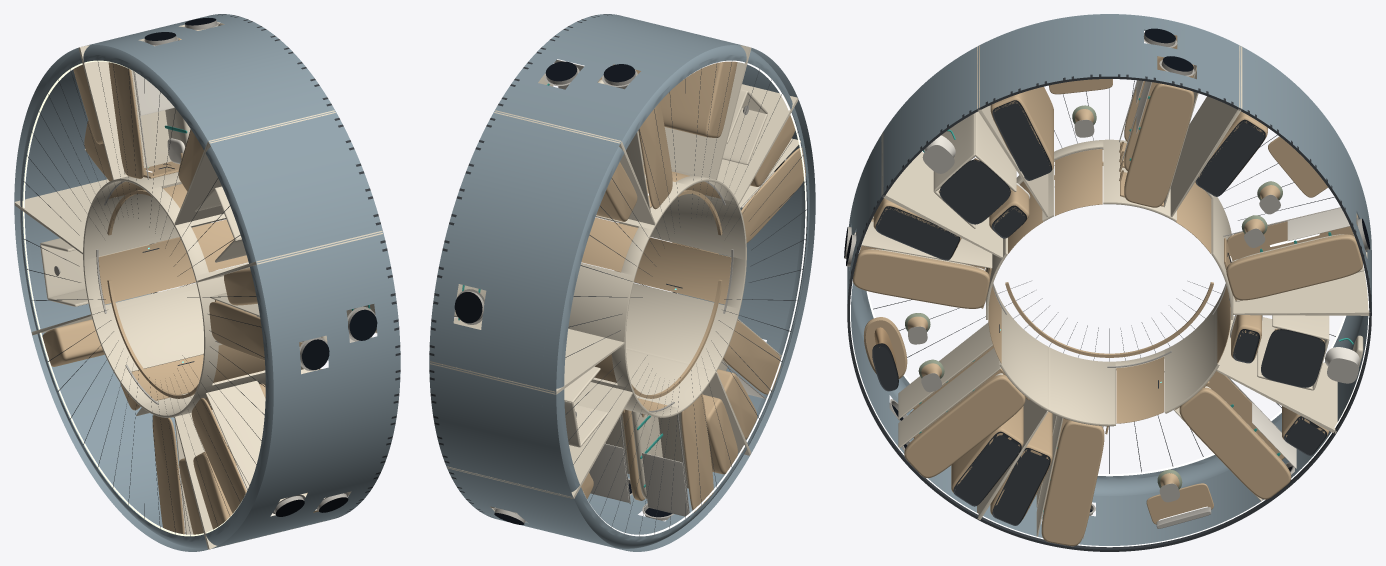
File: interior_L3.glb
3 renders of one model, left to right at view 1: azimuth 30°, elevation 25°; view 2: azimuth 150°, elevation 25°; view 3: azimuth 270°, elevation 25°, orthographic.
Parts seen in each view (by area): view 1: dry:L3_D3_lining, dry:L3_P0_CB, dry:L3_P0_CAPT, dry:L3_P0_HC, dry:L3_B_GUEST_221, dry:L3_B_CA_75, dry:L3_P0_GUEST, dry:L3_P0_HG, dry:L3_P0_CA, dry:L3_B_CB_259, dry:L3_B1_crewB_lockers, dry:L3_B_GUEST_169 (+11 smaller); view 2: dry:L3_D3_lining, dry:L3_P0_GUEST, dry:L3_B_CB_259, dry:L3_P0_CAPT, dry:L3_P0_CB, dry:L3_P0_CA, dry:L3_P0_HC, dry:L3_A1_crewA_lockers, dry:L3_P0_HG, dry:L3_B_CA_75, dry:L3_B_GUEST_169, dry:L3_B_GUEST_221 (+10 smaller); view 3: dry:L3_D3_lining, dry:L3_P0_CB, dry:L3_B_GUEST_221, dry:L3_P0_CA, dry:L3_B_CAPT_15, dry:L3_H1_guest_washroom, dry:L3_B_CB_311, dry:L3_B_GUEST_169, dry:L3_B_CA_75, dry:L3_H2_crew_washroom, dry:L3_P0_CAPT, dry:L3_G1_guest_lockers (+14 smaller).
Part boxes in pixels (x1=…): dry:L3_D3_lining: x1=14, y1=14, x2=400, y2=551; dry:L3_P0_CB: x1=34, y1=289, x2=333, y2=549; dry:L3_P0_CAPT: x1=14, y1=47, x2=210, y2=254; dry:L3_P0_HC: x1=21, y1=210, x2=215, y2=335; dry:L3_B_GUEST_221: x1=191, y1=369, x2=351, y2=516; dry:L3_B_CA_75: x1=108, y1=22, x2=224, y2=179; dry:L3_P0_GUEST: x1=174, y1=231, x2=382, y2=549; dry:L3_P0_HG: x1=174, y1=110, x2=377, y2=282; dry:L3_P0_CA: x1=78, y1=24, x2=326, y2=225; dry:L3_B_CB_259: x1=152, y1=415, x2=193, y2=534; dry:L3_B1_crewB_lockers: x1=42, y1=319, x2=203, y2=534; dry:L3_B_GUEST_169: x1=209, y1=293, x2=377, y2=360; dry:L3_D3_lining: x1=429, y1=14, x2=815, y2=551; dry:L3_P0_GUEST: x1=614, y1=98, x2=798, y2=443; dry:L3_B_CB_259: x1=589, y1=393, x2=713, y2=517; dry:L3_P0_CAPT: x1=430, y1=114, x2=655, y2=394; dry:L3_P0_CB: x1=456, y1=348, x2=751, y2=498; dry:L3_P0_CA: x1=494, y1=45, x2=750, y2=225; dry:L3_P0_HC: x1=434, y1=342, x2=633, y2=498; dry:L3_A1_crewA_lockers: x1=635, y1=61, x2=737, y2=137; dry:L3_P0_HG: x1=685, y1=47, x2=797, y2=205; dry:L3_B_CA_75: x1=538, y1=59, x2=672, y2=211; dry:L3_B_GUEST_169: x1=739, y1=138, x2=805, y2=242; dry:L3_B_GUEST_221: x1=718, y1=319, x2=781, y2=399; dry:L3_D3_lining: x1=847, y1=14, x2=1371, y2=551; dry:L3_P0_CB: x1=987, y1=307, x2=1336, y2=508; dry:L3_B_GUEST_221: x1=898, y1=322, x2=1029, y2=478; dry:L3_P0_CA: x1=977, y1=45, x2=1242, y2=218; dry:L3_B_CAPT_15: x1=1223, y1=207, x2=1364, y2=301; dry:L3_H1_guest_washroom: x1=922, y1=111, x2=1030, y2=238; dry:L3_B_CB_311: x1=1174, y1=371, x2=1296, y2=501; dry:L3_B_GUEST_169: x1=853, y1=216, x2=992, y2=308; dry:L3_B_CA_75: x1=1119, y1=35, x2=1198, y2=207; dry:L3_H2_crew_washroom: x1=1230, y1=315, x2=1363, y2=390; dry:L3_P0_CAPT: x1=1170, y1=45, x2=1369, y2=314; dry:L3_G1_guest_lockers: x1=873, y1=198, x2=1023, y2=506.
Bounding box in the file's own units: 2.3 × 8.21 × 8.19.
